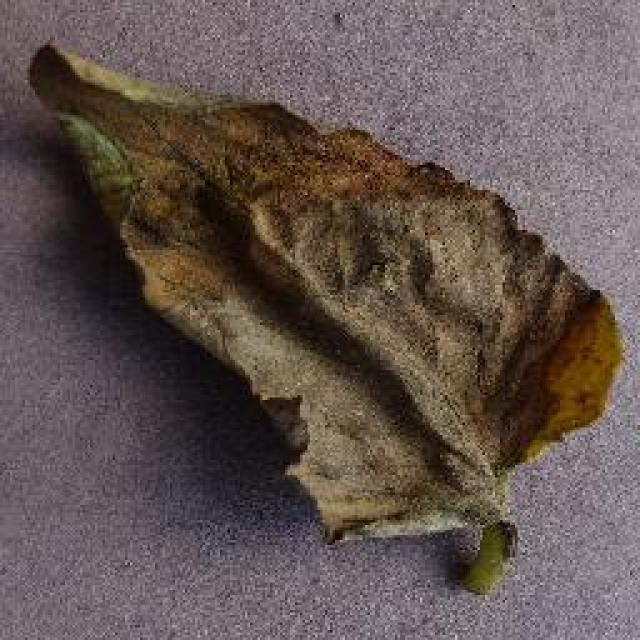Tomato___Late_blight: (25, 42, 628, 592)
